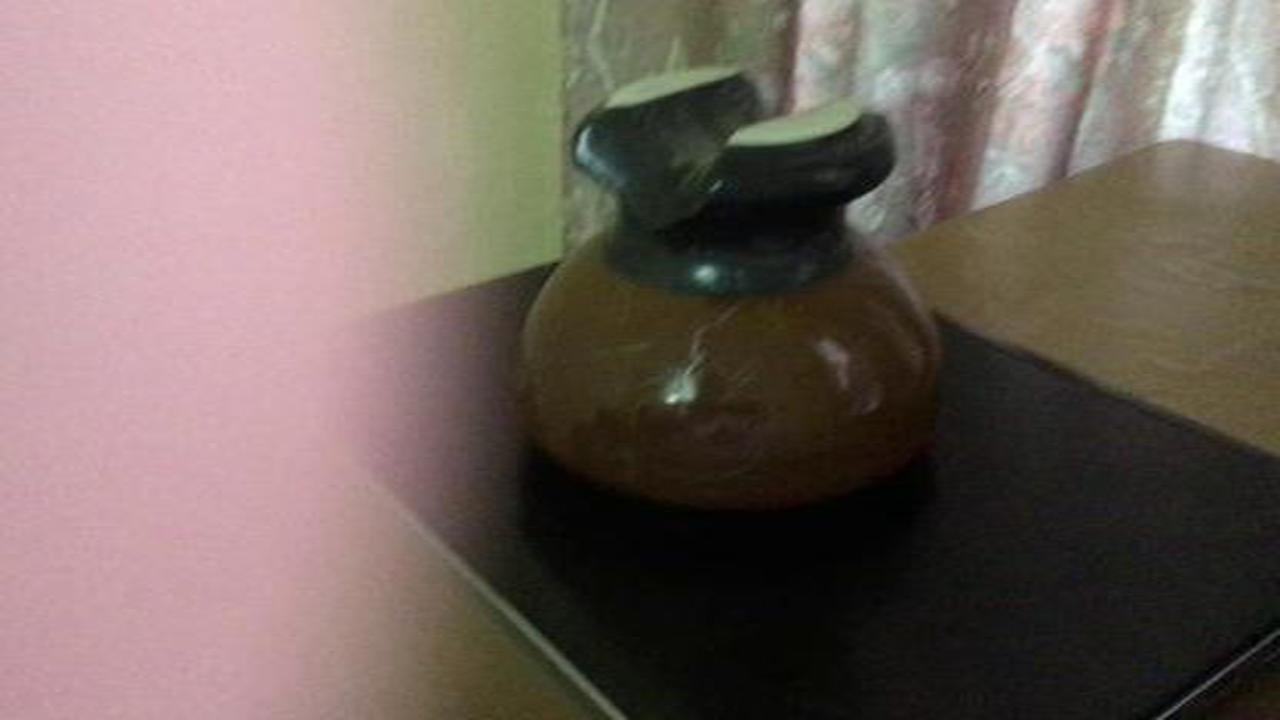insulator_pin: (486, 61, 976, 530)
